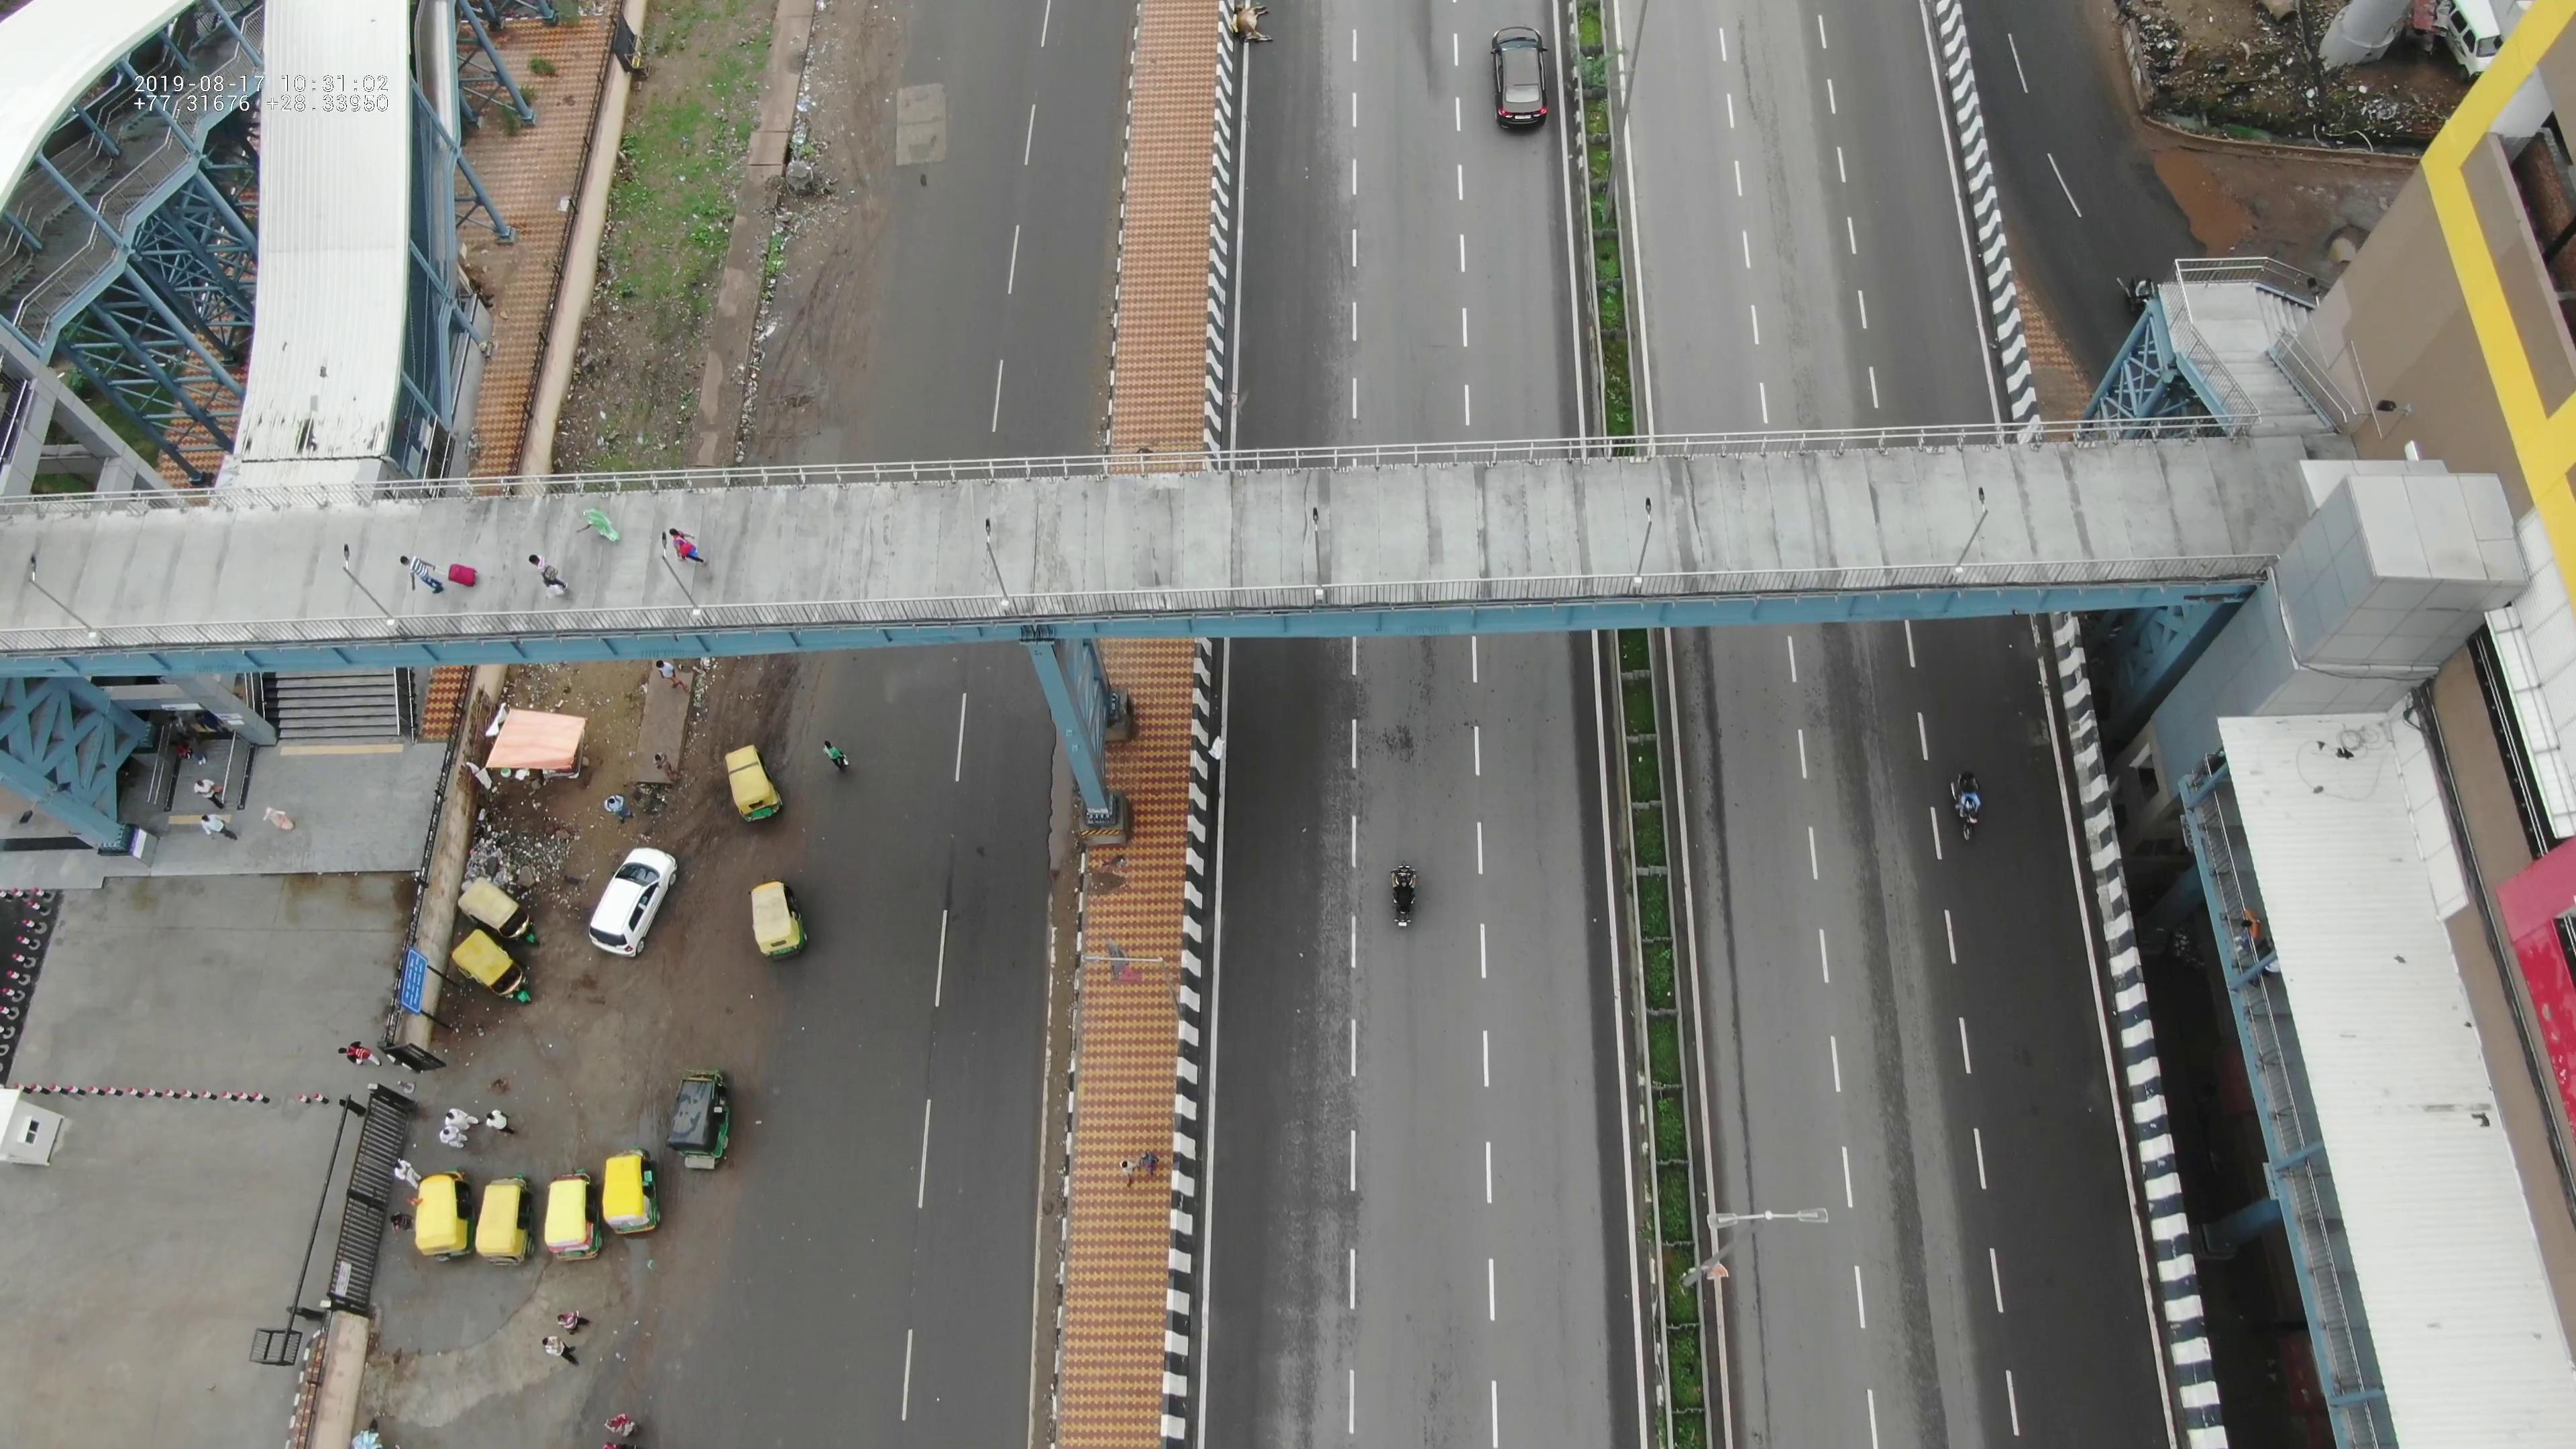Muddy_road: (747, 205, 879, 444)
Ravelling: (1729, 14, 1824, 255)
